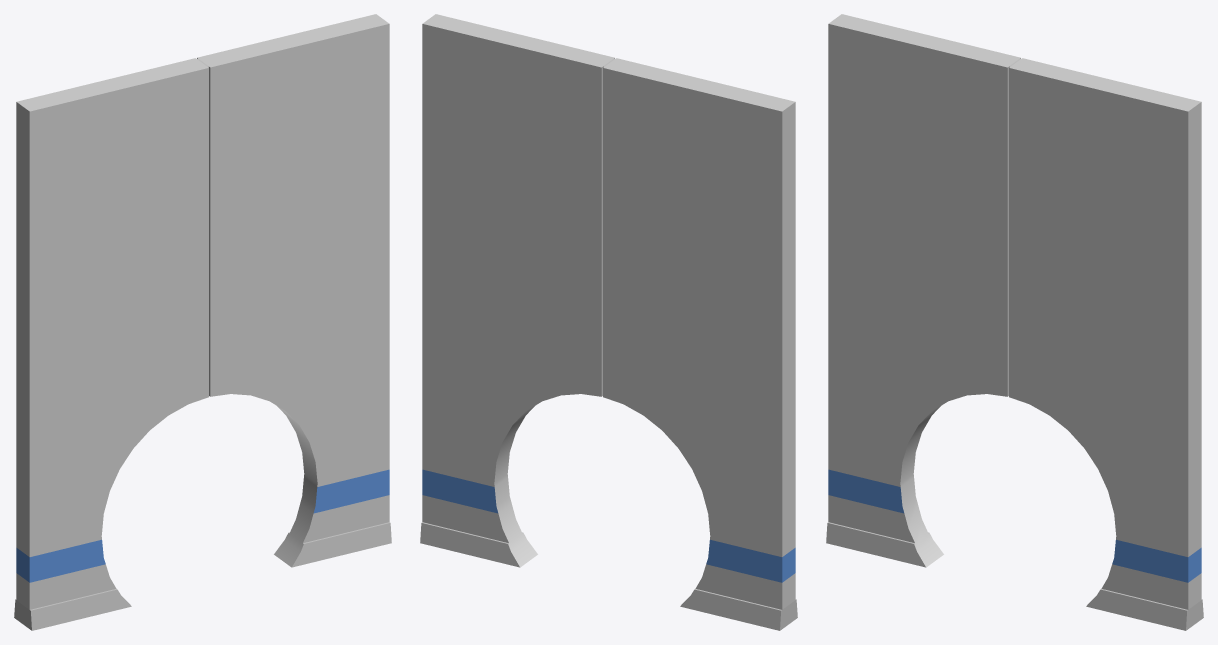
The model's file is LaboWallDoor.fbx.
3 views of the same model, side by side, from view 1: azimuth 30°, elevation 25°; view 2: azimuth 150°, elevation 25°; view 3: azimuth 330°, elevation 25° (orthographic).
Visible parts, largest first — view 1: Cube.001; view 2: Cube.001; view 3: Cube.001.
Part boxes in pixels (x1,y1,x2,y2): Cube.001: (14, 14, 391, 630); Cube.001: (420, 14, 797, 630); Cube.001: (826, 14, 1203, 630).
Size of the model in its own units: 800 by 1100 by 69.07.
